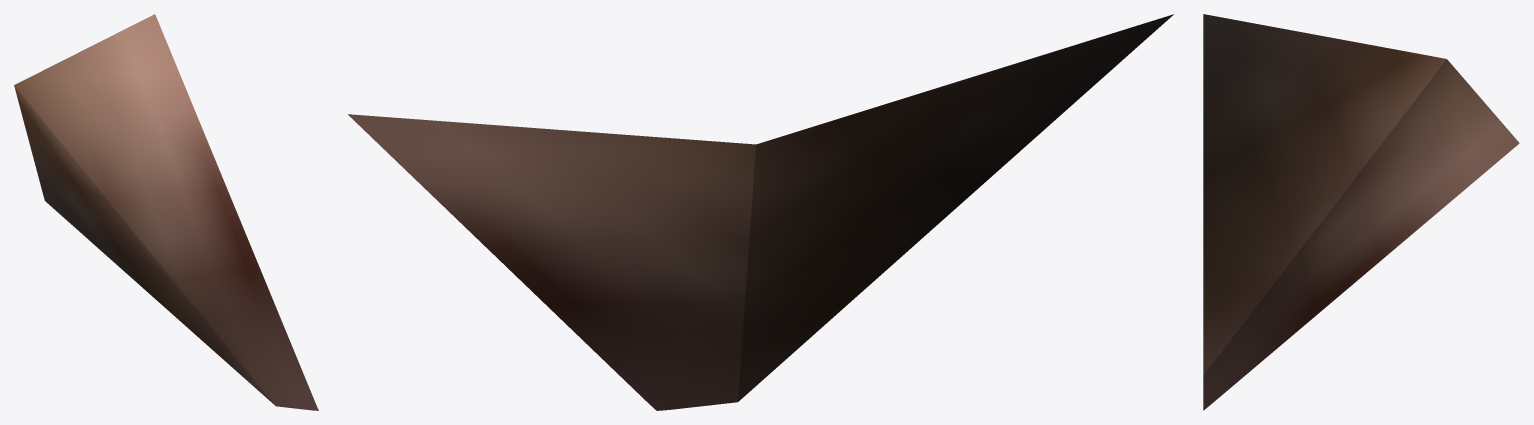
3 renders of one model, left to right at view 1: azimuth 30°, elevation 25°; view 2: azimuth 150°, elevation 25°; view 3: azimuth 270°, elevation 25°, orthographic. The views are drawn at different scales.
Size of the model in its own units: 0.0457 by 0.0442 by 0.0473.
Materials: 1 (1 with a texture image).
